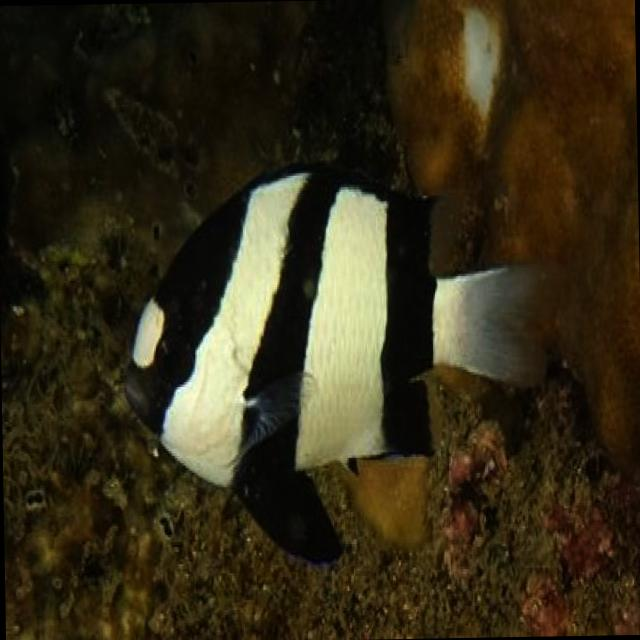Three_striped DasmselFish: (119, 158, 554, 566)
